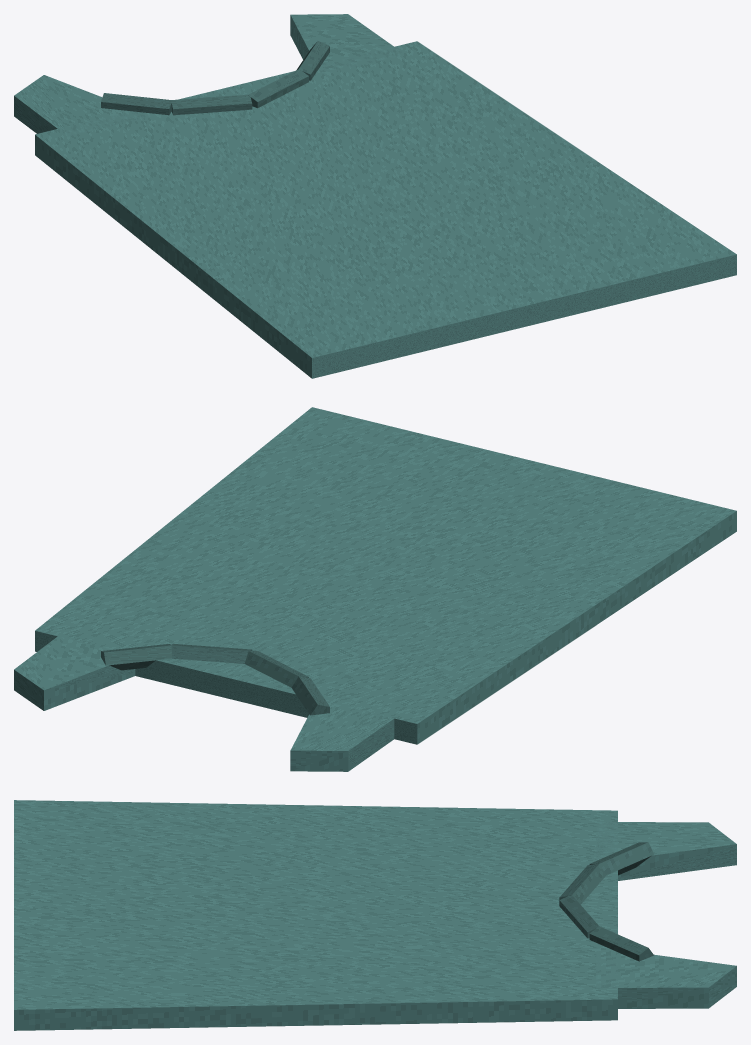
The model's file is sleeveless_tunic.glb.
3 renders of one model, top to bottom at view 1: azimuth 30°, elevation 25°; view 2: azimuth 150°, elevation 25°; view 3: azimuth 270°, elevation 25°, orthographic.
Parts seen in each view (by area): view 1: block_shirt torso, block_sleeve or strap -1, block_sleeve or strap 1, block_bound collar 1, block_bound collar 0, block_bound collar 2, block_bound collar 3; view 2: block_shirt torso, block_sleeve or strap 1, block_sleeve or strap -1, block_bound collar 3, block_bound collar 2, block_bound collar 1, block_bound collar 0; view 3: block_shirt torso, block_sleeve or strap 1, block_sleeve or strap -1, block_bound collar 0, block_bound collar 3, block_bound collar 1, block_bound collar 2.
Part boxes in pixels (bbox=[...]): block_shirt torso: bbox=[35, 41, 736, 378]; block_sleeve or strap -1: bbox=[14, 75, 150, 136]; block_sleeve or strap 1: bbox=[290, 14, 403, 74]; block_bound collar 1: bbox=[171, 94, 252, 115]; block_bound collar 0: bbox=[101, 93, 172, 115]; block_bound collar 2: bbox=[248, 69, 308, 108]; block_bound collar 3: bbox=[297, 41, 329, 80]; block_shirt torso: bbox=[35, 407, 736, 744]; block_sleeve or strap 1: bbox=[14, 633, 135, 710]; block_sleeve or strap -1: bbox=[290, 702, 394, 771]; block_bound collar 3: bbox=[101, 644, 171, 670]; block_bound collar 2: bbox=[171, 643, 252, 663]; block_bound collar 1: bbox=[244, 650, 308, 687]; block_bound collar 0: bbox=[291, 676, 329, 715]; block_shirt torso: bbox=[14, 800, 617, 1030]; block_sleeve or strap 1: bbox=[596, 947, 736, 1008]; block_sleeve or strap -1: bbox=[596, 821, 736, 880]; block_bound collar 0: bbox=[589, 842, 653, 875]; block_bound collar 3: bbox=[589, 926, 653, 961]; block_bound collar 1: bbox=[559, 863, 606, 904]; block_bound collar 2: bbox=[559, 894, 599, 938].
Size of the model in its own units: 0.3 by 0.0207 by 0.437.
1 material, 1 textured.
